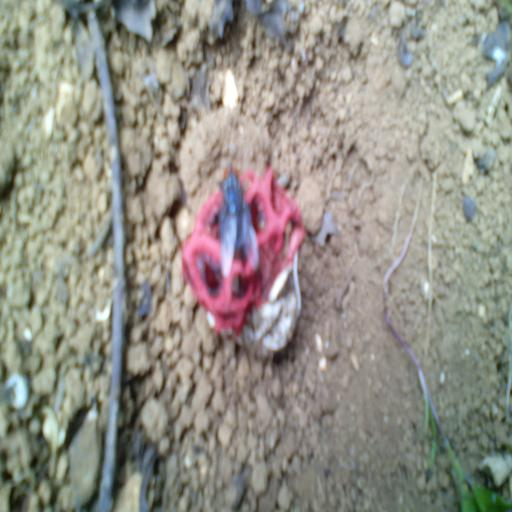Red Cage Fungus: (182, 174, 305, 352)
